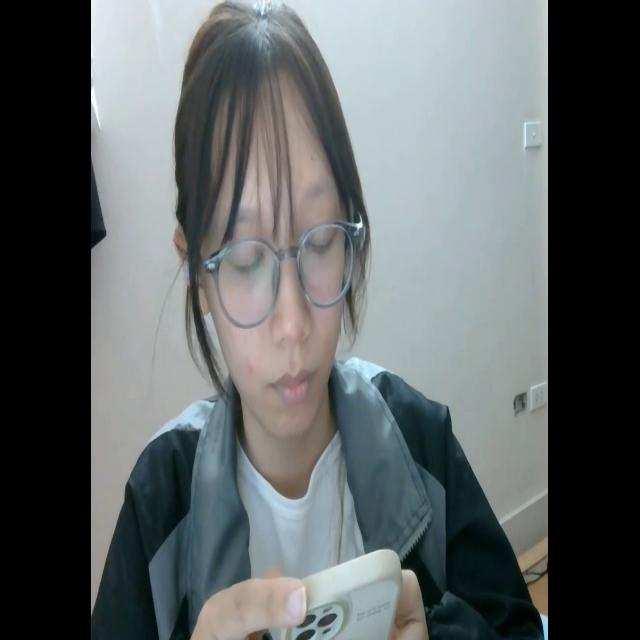phone: (257, 543, 402, 640)
student: (102, 2, 544, 640)
